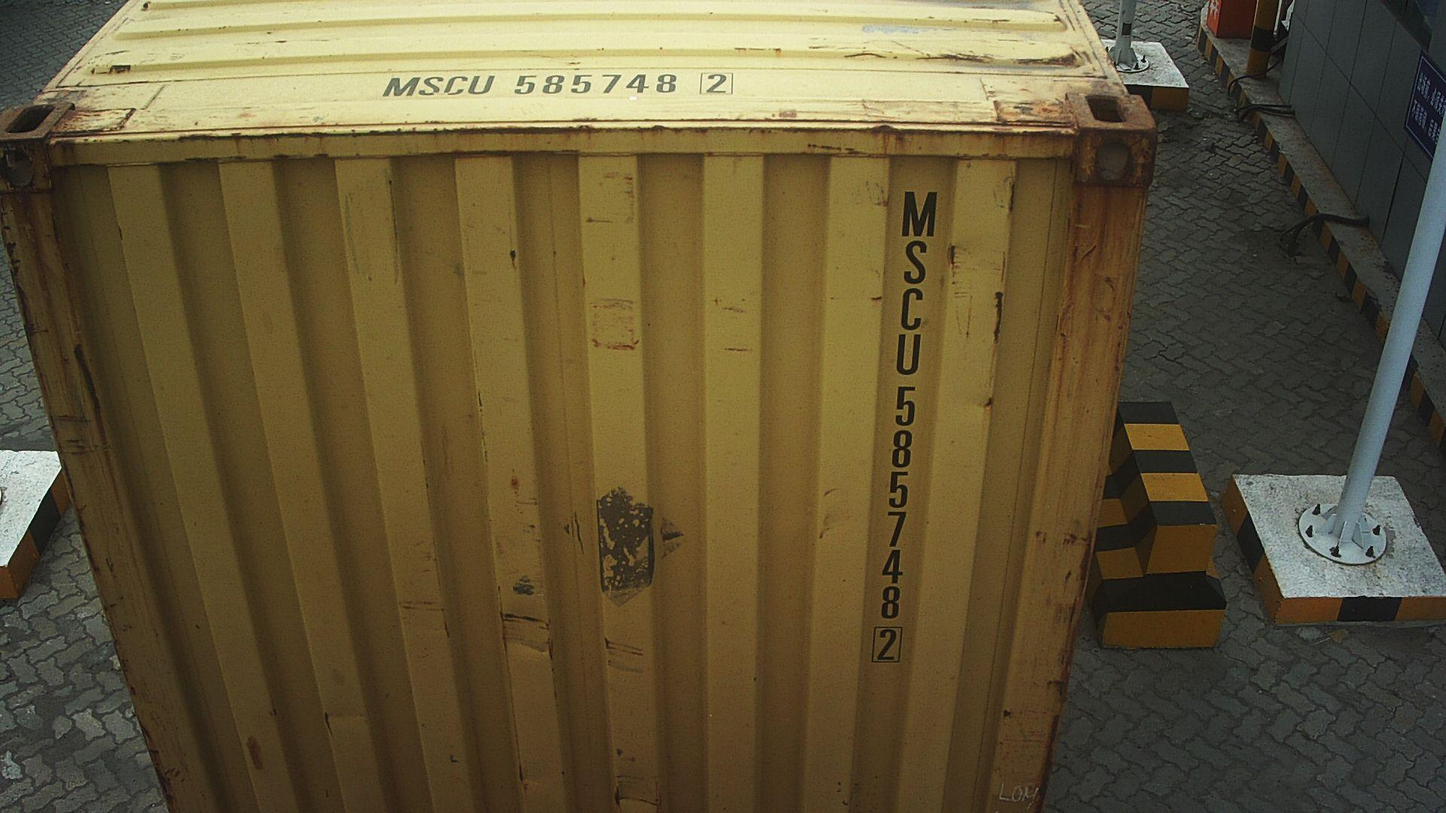container-numbers: (868, 185, 943, 665), (371, 68, 737, 102)
